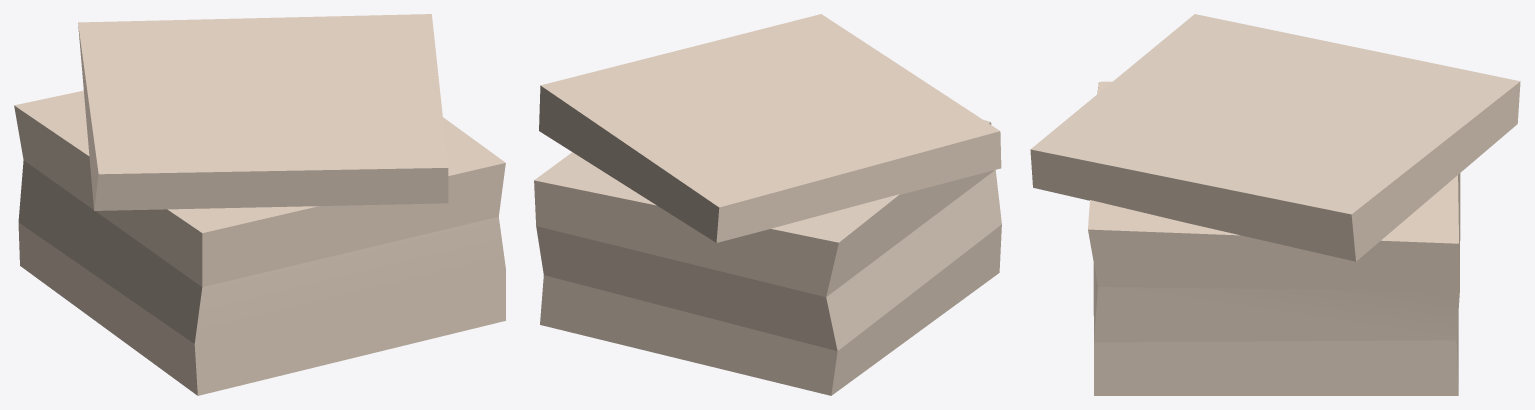
File: furniture_napkin-stack.fbx
The picture shows the model from 3 angles, left to right: view 1: azimuth 30°, elevation 25°; view 2: azimuth 150°, elevation 25°; view 3: azimuth 270°, elevation 25°; orthographic projection. The views are drawn at different scales.
Parts seen in each view (by area): view 1: furniture_napkin_stack; view 2: furniture_napkin_stack; view 3: furniture_napkin_stack.
Boxes of the visible parts, <box> form: furniture_napkin_stack: <box>14,14,505,395</box>; furniture_napkin_stack: <box>534,14,1001,395</box>; furniture_napkin_stack: <box>1030,14,1520,395</box>.
Size of the model in its own units: 199 by 93.35 by 200.
